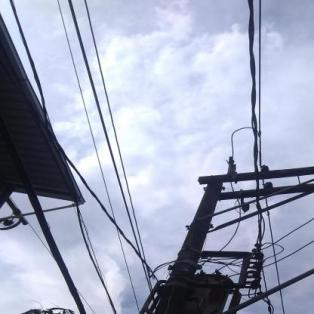Poste: (129, 164, 237, 314)
